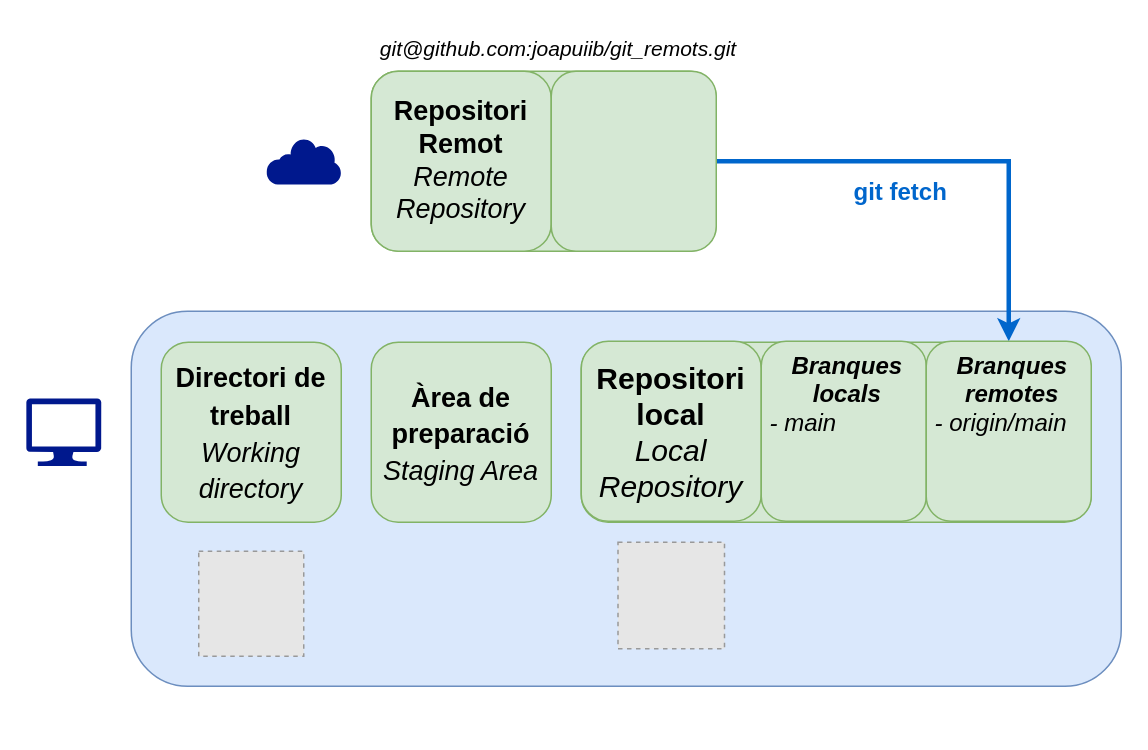
This 1148x750 diagram has some shape labels left out. Grey dashed boxes stand in for pictures. Here are the shapes that lost their labels. From the top down, the box of each, then its label:
(550, 70, 716, 251): Branques - main
(130, 310, 1121, 686): Local - Entorn de desenvolupament
